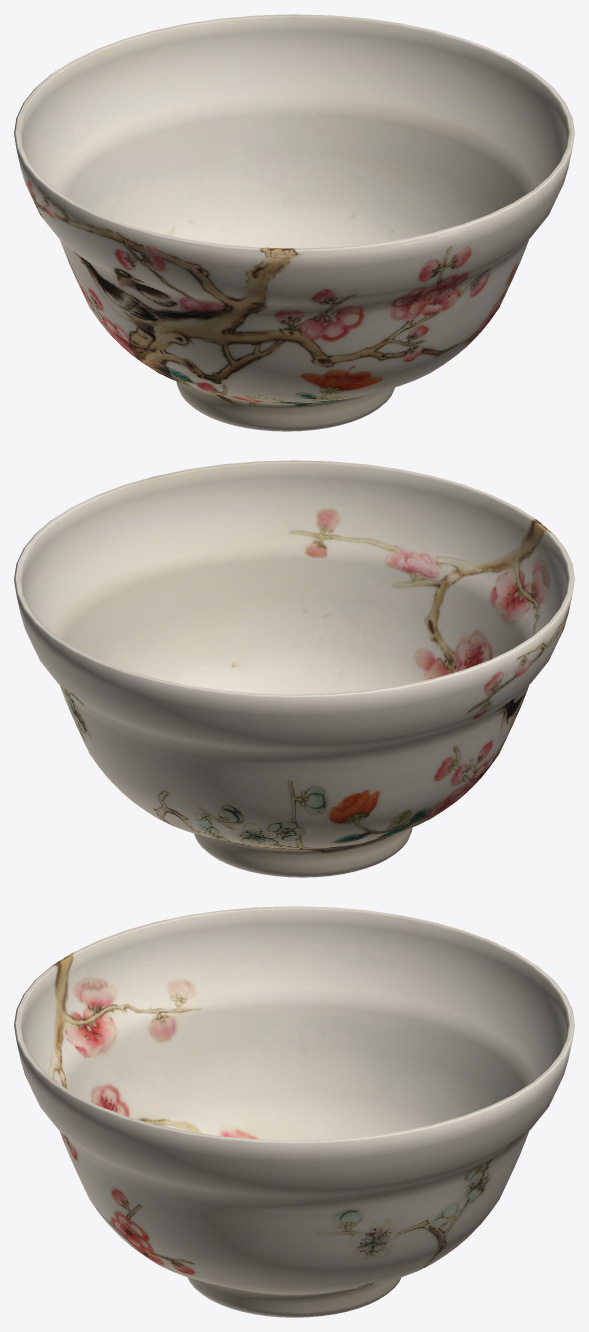
3 renders of one model, top to bottom at view 1: azimuth 30°, elevation 25°; view 2: azimuth 150°, elevation 25°; view 3: azimuth 270°, elevation 25°, orthographic.
Visible parts, largest first — view 1: objSZB_ZL_133; view 2: objSZB_ZL_133; view 3: objSZB_ZL_133.
Boxes of the visible parts, x1,y1,x2,y2 form: objSZB_ZL_133: [14, 14, 574, 431]; objSZB_ZL_133: [14, 460, 574, 877]; objSZB_ZL_133: [14, 906, 574, 1317].
Size of the model in its own units: 126 by 62.87 by 126.
